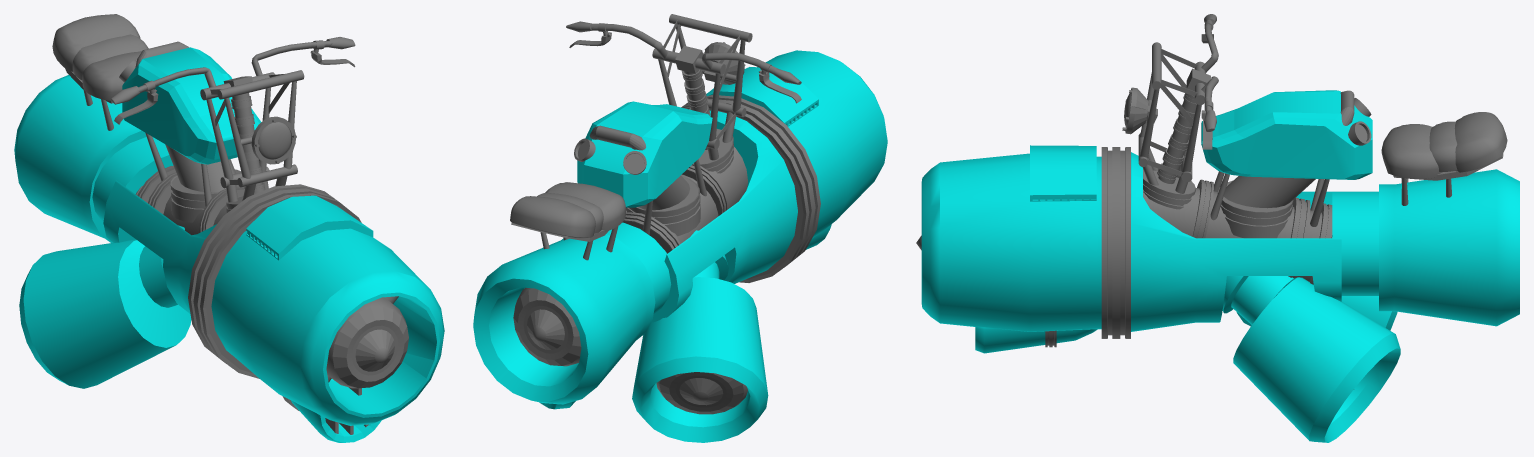
The model's file is rocket_jet.fbx.
3 renders of one model, left to right at view 1: azimuth 30°, elevation 25°; view 2: azimuth 150°, elevation 25°; view 3: azimuth 270°, elevation 25°, orthographic. The views are drawn at different scales.
Visible parts, largest first — view 1: pCylinder31; view 2: pCylinder31; view 3: pCylinder31.
Boxes of the visible parts, x1,y1,x2,y2 form: pCylinder31: [14, 14, 444, 442]; pCylinder31: [473, 14, 887, 442]; pCylinder31: [916, 14, 1519, 442].
Size of the model in its own units: 3.8 by 4.38 by 7.04.
